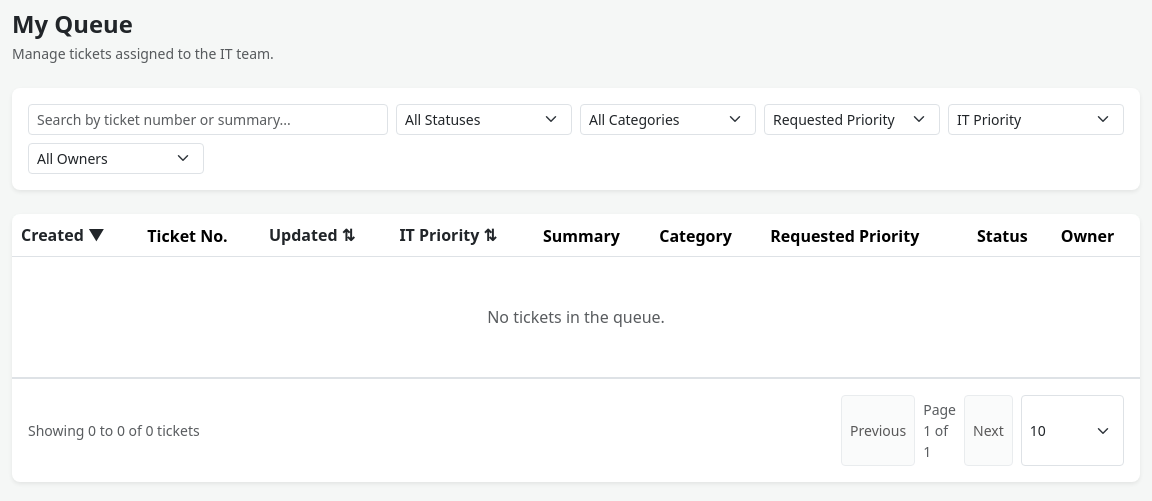
Test case: StaffTicketQueuePage › distinguishes no-results from an empty queue
This screenshot has width=1152, height=501.
Expected: the text "No tickets in the queue." is shown, [12, 257, 1140, 378]
Type "missing" into the field named "Search tickets".
click(208, 119); type("missing")  # box [28, 104, 388, 135]
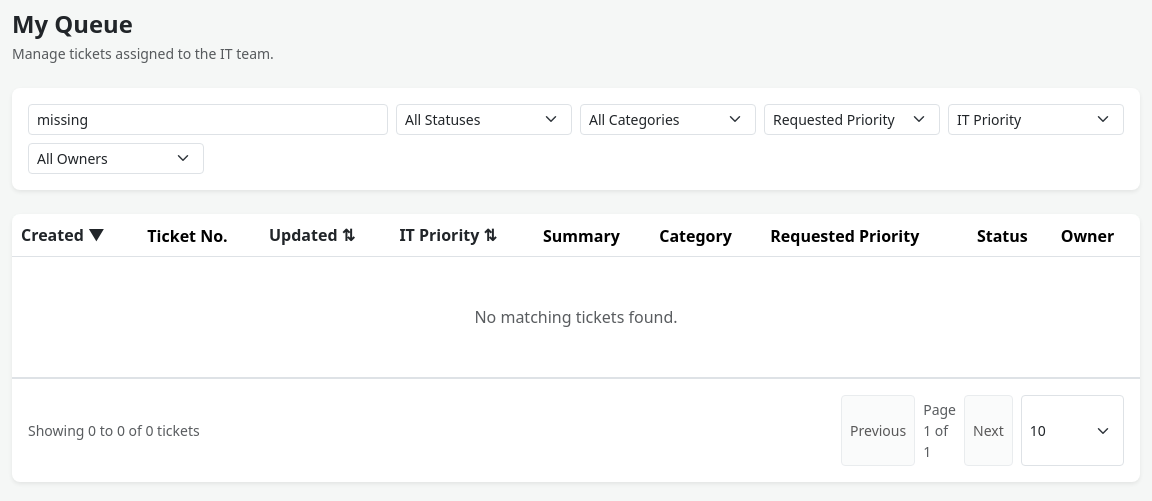
Result: the text "No matching tickets found." is shown at [12, 257, 1140, 378]
